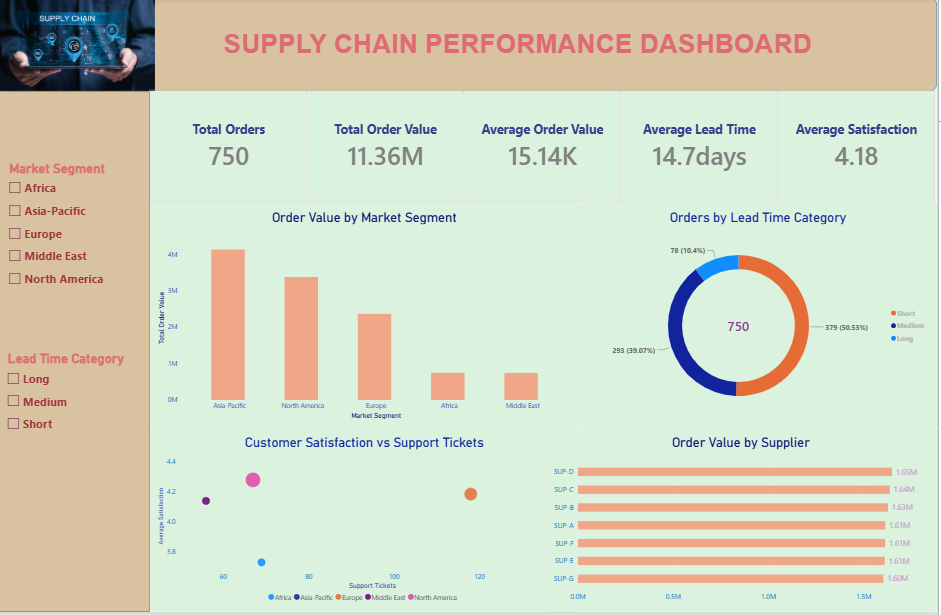

The dashboard page shown, as its layout file describes it:
{"tool":"powerbi","page":{"name":"Page 1","canvas":[2000,1300],"ordinal":0},"visuals":[{"type":"shape","box":[12.7,0,1986.3,199.9],"z":0},{"type":"textbox","box":[225.3,66.6,1773.7,79.3],"z":1000},{"type":"image","box":[0,0,354.3,198.4],"z":2000},{"type":"cardVisual","fields":{"Data":["supply_chain_analytics supply_chain_data.Total Orders","supply_chain_analytics supply_chain_data.Total Order Value","supply_chain_analytics supply_chain_data.Average Order Value","supply_chain_analytics supply_chain_data.Average Lead Time","supply_chain_analytics supply_chain_data.Average Satisfaction"]},"box":[333.2,196.7,1665.8,238],"z":3000},{"type":"clusteredColumnChart","title":"Order Value by Market Segment","fields":{"Category":["supply_chain_analytics supply_chain_data.market_segment"],"Y":["supply_chain_analytics supply_chain_data.Total Order Value"]},"box":[333.2,434.7,907.5,475.9],"z":4000},{"type":"donutChart","title":"Orders by Lead Time Category","fields":{"Category":["supply_chain_analytics supply_chain_data.lead_time_category"],"Y":["supply_chain_analytics supply_chain_data.Total Orders"]},"box":[1240.6,434.7,758.3,475.9],"z":5000},{"type":"scatterChart","title":"Customer Satisfaction vs Support Tickets","fields":{"Series":["supply_chain_analytics supply_chain_data.market_segment"],"Size":["supply_chain_analytics supply_chain_data.Total Order Value"],"X":["Sum(supply_chain_analytics supply_chain_data.support_tickets)"],"Y":["supply_chain_analytics supply_chain_data.Average Satisfaction"]},"box":[333.2,910.6,907.5,390.3],"z":6000},{"type":"shape","box":[12.7,199.9,320.5,1101],"z":6002},{"type":"slicer","fields":{"Values":["supply_chain_analytics supply_chain_data.market_segment"]},"box":[28.6,345.9,317.3,358.5],"z":6003},{"type":"slicer","fields":{"Values":["supply_chain_analytics supply_chain_data.lead_time_category"]},"box":[25.4,748.8,301.4,320.5],"z":6004},{"type":"clusteredBarChart","title":"Order Value by Supplier","fields":{"Category":["supply_chain_analytics supply_chain_data.supplier_id"],"Y":["supply_chain_analytics supply_chain_data.Total Order Value"]},"box":[1167.6,910.6,831.3,390.3],"z":6005}]}

Visuals, with their boxes in screenshot pixels (x1, y1, x2, y2), scaled from the page's 2000x1300 canvas onto the 941x615 screenshot:
shape: 6/0/940/95
textbox: 106/32/940/69
image: 0/0/167/94
cardVisual - supply_chain_analytics supply_chain_data.Total Orders x supply_chain_analytics supply_chain_data.Total Order Value: 157/93/940/206
"Order Value by Market Segment" clusteredColumnChart: 157/206/584/431
"Orders by Lead Time Category" donutChart: 584/206/940/431
"Customer Satisfaction vs Support Tickets" scatterChart: 157/431/584/614
shape: 6/95/157/614
slicer - supply_chain_analytics supply_chain_data.market_segment: 13/164/163/333
slicer - supply_chain_analytics supply_chain_data.lead_time_category: 12/354/154/506
"Order Value by Supplier" clusteredBarChart: 549/431/940/614
